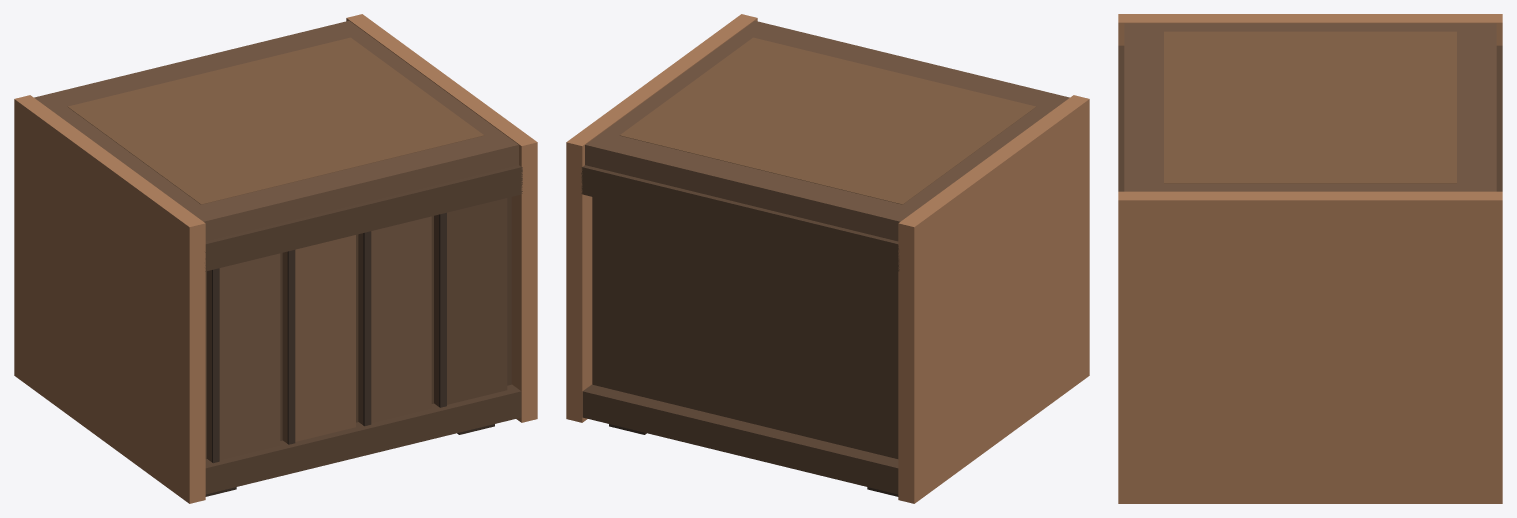
File: CMU3DLargeWoodCrate.glb
3 views of the same model, side by side, from view 1: azimuth 30°, elevation 25°; view 2: azimuth 150°, elevation 25°; view 3: azimuth 270°, elevation 25° (orthographic). The views are drawn at different scales.
Visible parts, largest first — view 1: corner batten (×2), vertical front plank (×4), recessed lid panel, closed lid, bottom frame rail, upper frame rail, plank groove (×4), wooden body; view 2: corner batten (×2), wooden body, recessed lid panel, closed lid, bottom frame rail, upper frame rail; view 3: corner batten (×2), recessed lid panel, closed lid, upper frame rail (×2).
Part boxes in pixels (<box>): corner batten (×2): <box>14,14,537,503</box>; vertical front plank (×4): <box>207,198,507,461</box>; recessed lid panel: <box>68,37,483,204</box>; closed lid: <box>34,21,518,241</box>; bottom frame rail: <box>205,384,521,494</box>; upper frame rail: <box>205,165,522,271</box>; plank groove (×4): <box>212,212,446,463</box>; wooden body: <box>205,197,511,458</box>; corner batten (×2): <box>566,14,1089,503</box>; wooden body: <box>592,197,898,458</box>; recessed lid panel: <box>620,37,1035,204</box>; closed lid: <box>585,21,1069,241</box>; bottom frame rail: <box>582,384,898,494</box>; upper frame rail: <box>581,165,899,271</box>; corner batten (×2): <box>1118,14,1502,503</box>; recessed lid panel: <box>1164,31,1456,183</box>; closed lid: <box>1124,23,1496,191</box>; upper frame rail (×2): <box>1118,45,1502,191</box>.
Bounding box in the file's own units: 0.782 × 0.6202 × 0.682.
